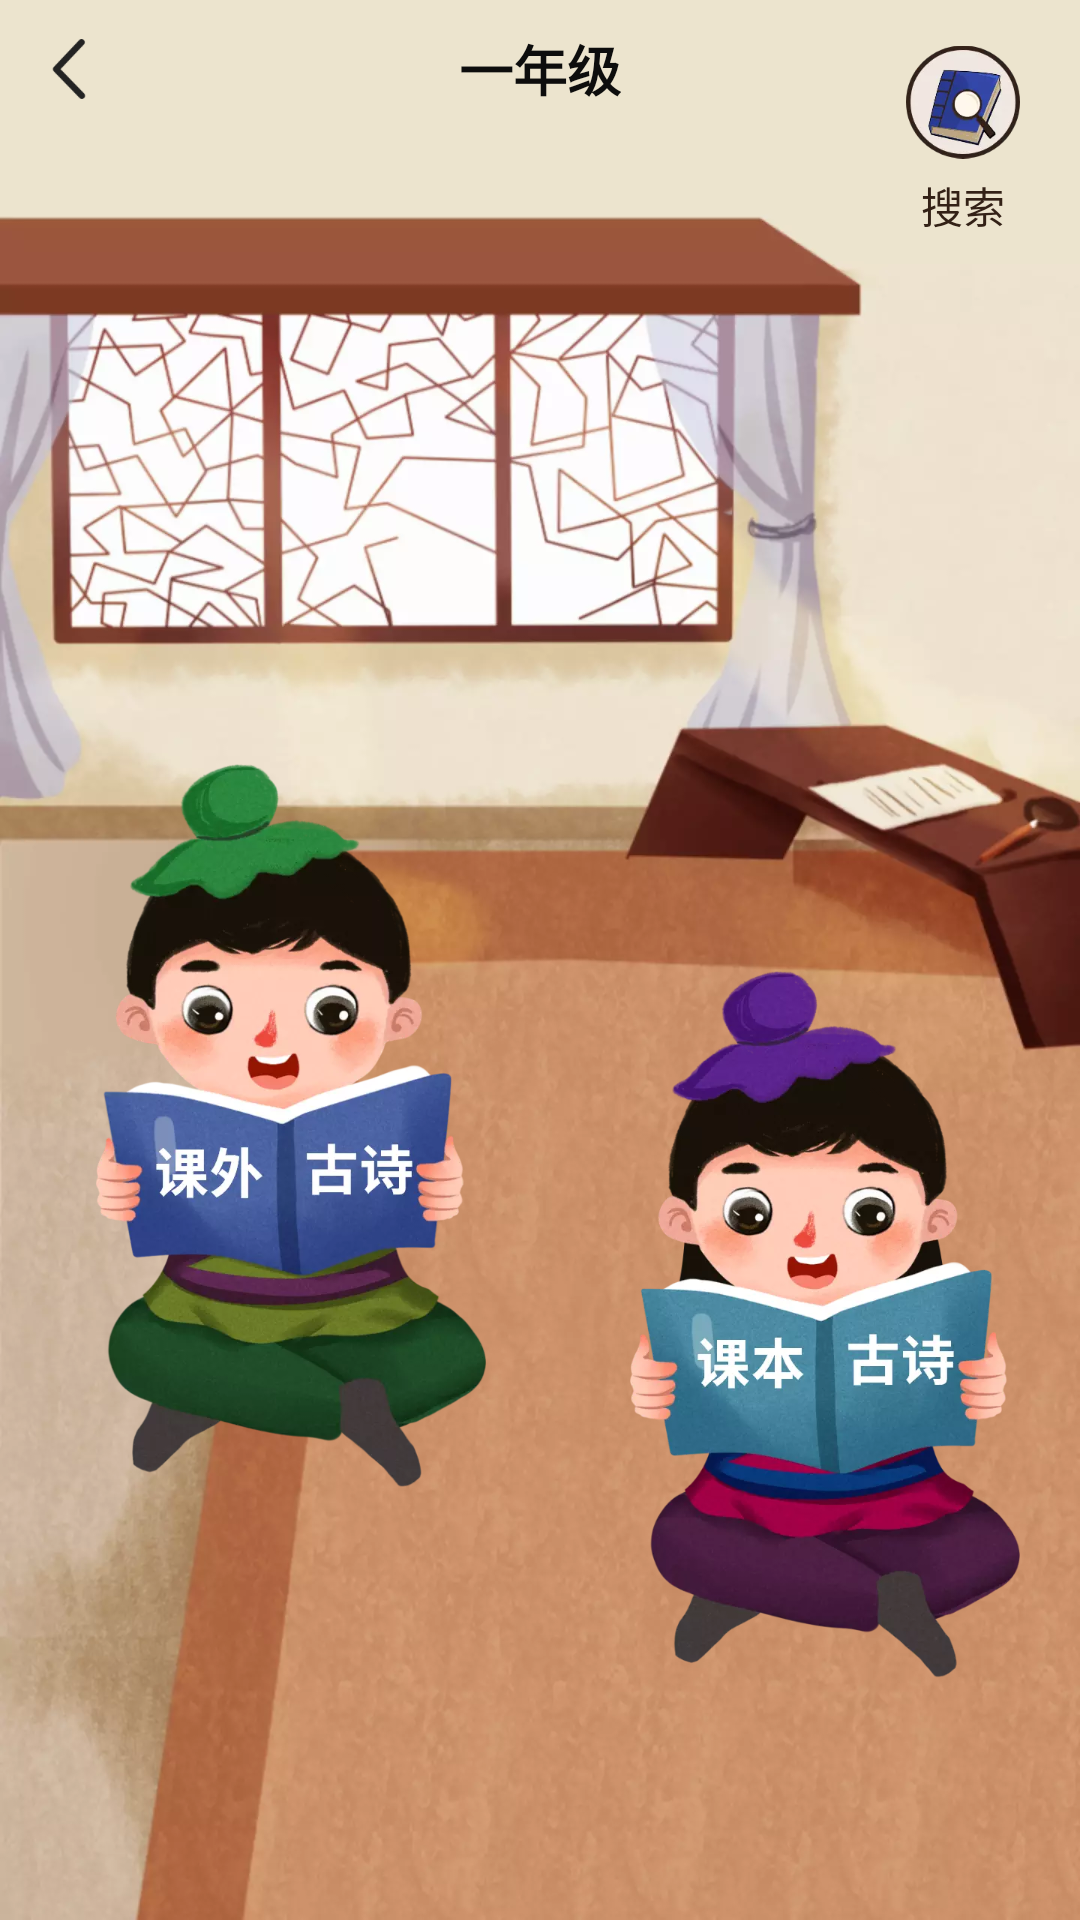

Screen size 1080w x 1920h. Icon name, then its center in pixels as (x,y):
arrow left: (69,69)
